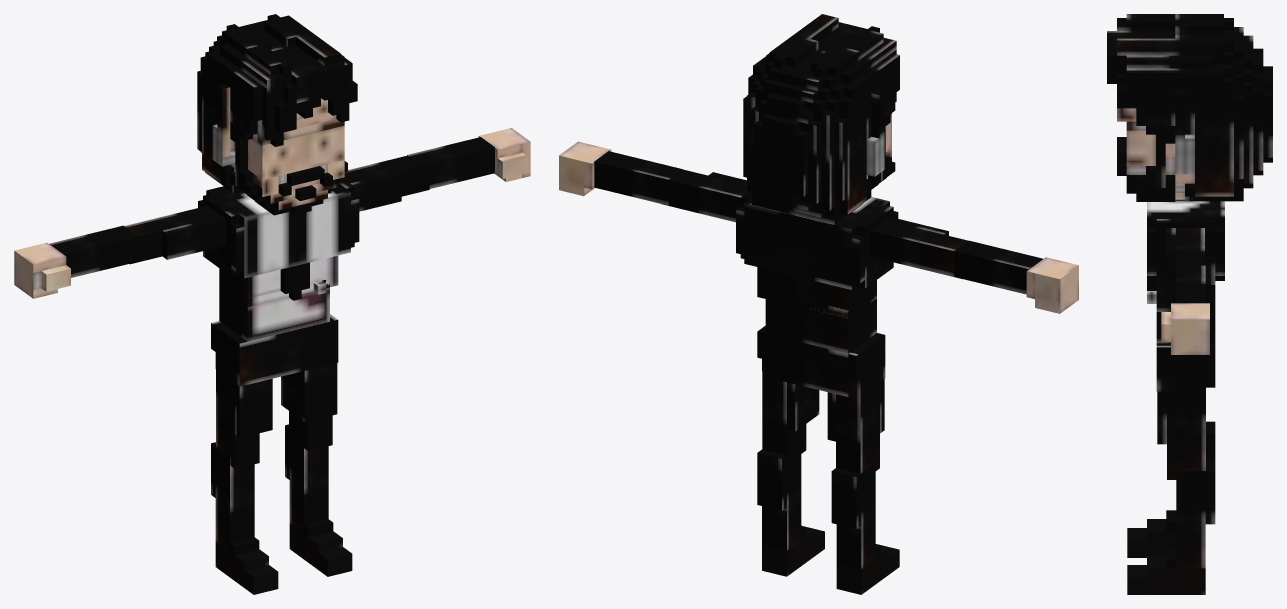
The model's file is hitman.glb.
3 views of the same model, side by side, from view 1: azimuth 30°, elevation 25°; view 2: azimuth 150°, elevation 25°; view 3: azimuth 270°, elevation 25° (orthographic). The views are drawn at different scales.
Parts seen in each view (by area): view 1: Hitman_T_Pose; view 2: Hitman_T_Pose; view 3: Hitman_T_Pose.
Part boxes in pixels (x1,y1,x2,y2): Hitman_T_Pose: (14,14,530,594); Hitman_T_Pose: (559,14,1078,594); Hitman_T_Pose: (1107,14,1272,594).
Size of the model in its own units: 6.41 by 6.46 by 1.8.
Materials: 1 (1 with a texture image).
